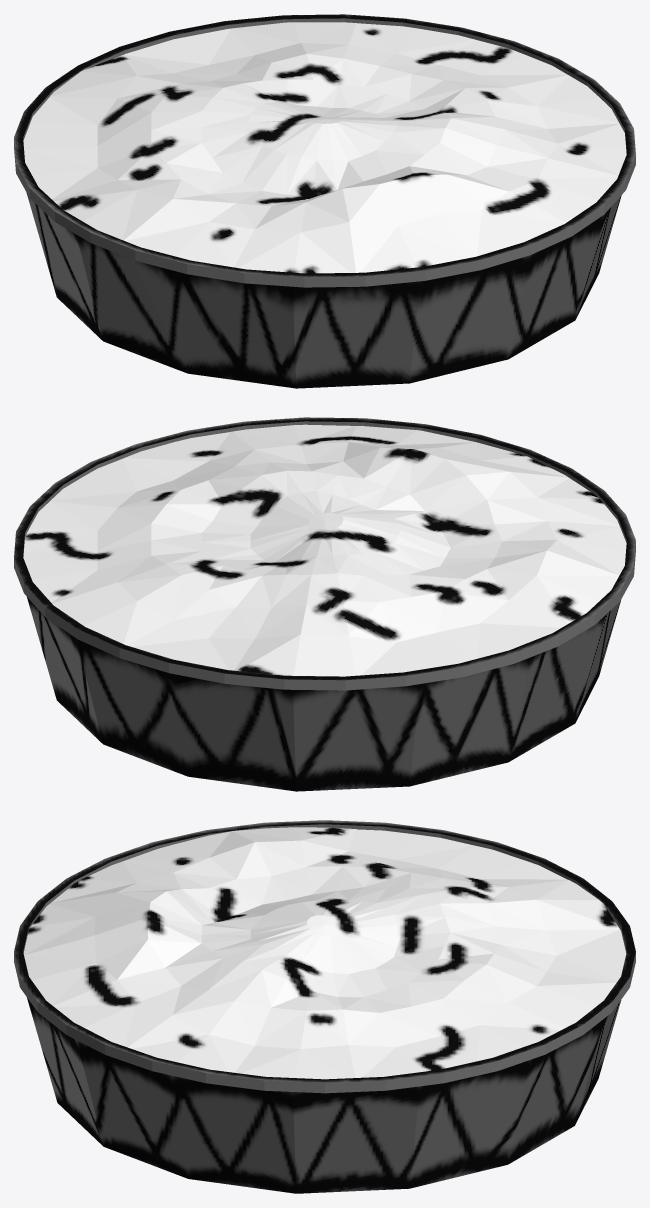
Rendered from pie.obj.
3 views of the same model, one above another, from view 1: azimuth 30°, elevation 25°; view 2: azimuth 150°, elevation 25°; view 3: azimuth 270°, elevation 25° (orthographic).
Visible parts, largest first — view 1: pie; view 2: pie; view 3: pie.
Boxes of the visible parts, bbox=[...] form: pie: bbox=[14, 14, 635, 388]; pie: bbox=[14, 417, 635, 791]; pie: bbox=[14, 820, 635, 1193].
Size of the model in its own units: 2.01 by 0.5775 by 2.01.
